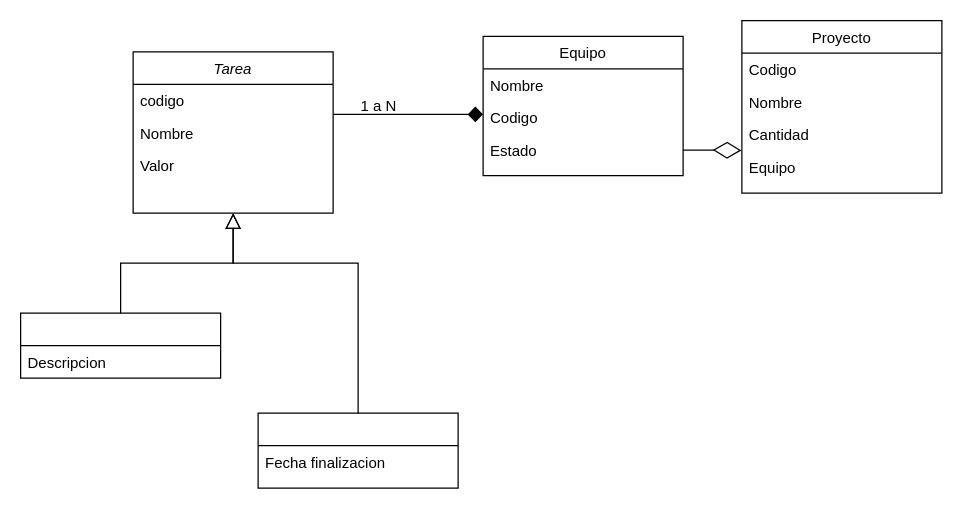
The diagram is 963 pixels wide and 509 high, and some of its shapes have lost their labels. The shapes that lost their labels are listed below. From the top down, each one's box as (x1, y1, x2, y2) in pixels, then its label:
(19, 312, 221, 378): Desarrollo
(257, 412, 458, 488): Prueba
